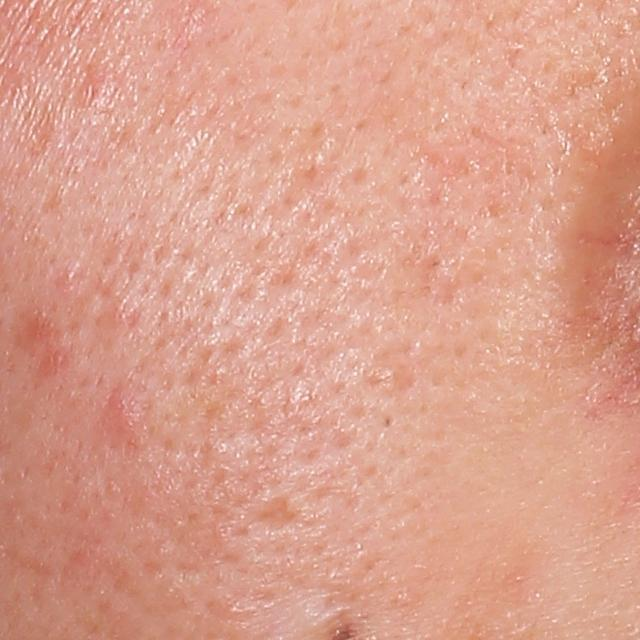atrophic_scar: (252, 500, 306, 531)
papule: (94, 391, 143, 437)
